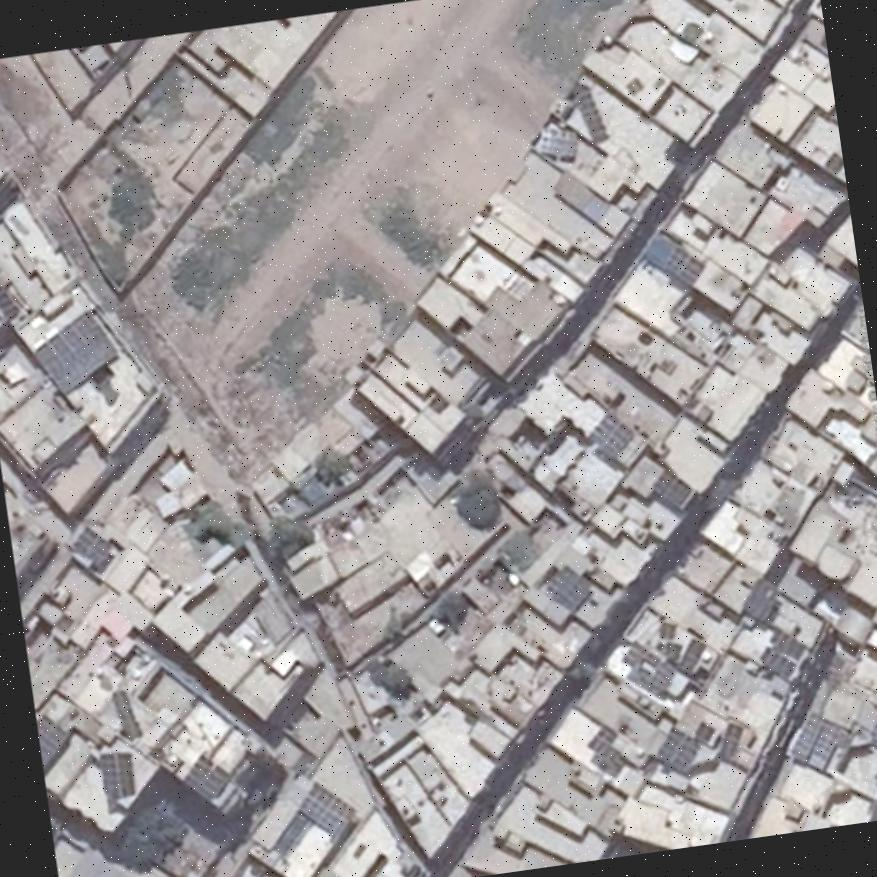Solarpanel: (33, 312, 117, 393), (296, 781, 356, 836), (790, 715, 843, 768), (182, 754, 227, 799), (654, 726, 698, 772), (590, 412, 634, 457), (36, 713, 68, 771), (550, 565, 591, 609), (97, 752, 134, 797), (577, 93, 609, 143), (664, 245, 701, 285), (110, 692, 139, 741), (72, 525, 108, 564), (652, 467, 688, 504), (759, 645, 794, 678), (537, 129, 574, 156), (771, 629, 801, 658), (719, 722, 740, 758), (681, 640, 703, 671)
